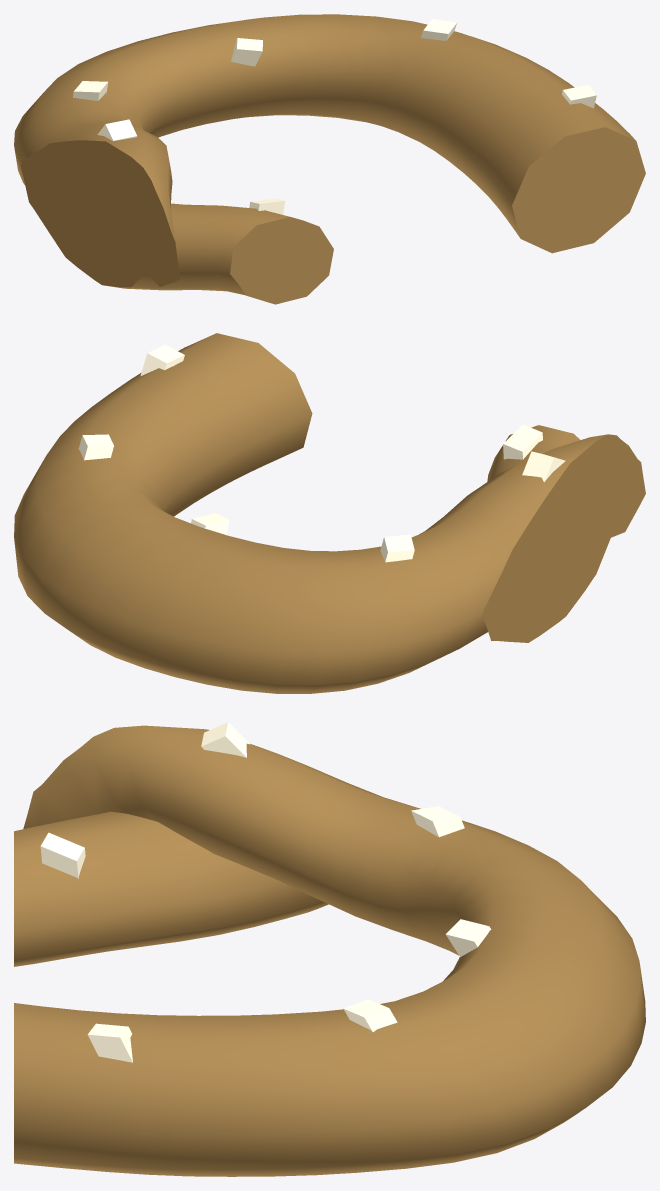
File: shot_superpretzel_b111.glb
The picture shows the model from 3 angles, top to bottom: view 1: azimuth 30°, elevation 25°; view 2: azimuth 150°, elevation 25°; view 3: azimuth 270°, elevation 25°; orthographic projection. The views are drawn at different scales.
Visible parts, largest first — view 1: sp_rope_b111, sp_salt.004_b111, sp_salt.002_b111, sp_salt.005_b111, sp_salt.003_b111, sp_salt.006_b111; view 2: sp_rope_b111, sp_salt.020_b111, sp_salt.003_b111, sp_salt.006_b111, sp_salt.005_b111, sp_salt.002_b111, sp_salt.004_b111; view 3: sp_rope_b111, sp_salt.020_b111, sp_salt.006_b111, sp_salt.002_b111, sp_salt.003_b111, sp_salt.005_b111, sp_salt.004_b111.
Part boxes in pixels (x1,y1,x2,y2): sp_rope_b111: (14, 14, 645, 304); sp_salt.004_b111: (231, 38, 262, 66); sp_salt.002_b111: (97, 119, 136, 141); sp_salt.005_b111: (421, 19, 457, 40); sp_salt.003_b111: (73, 81, 108, 100); sp_salt.006_b111: (562, 85, 596, 108); sp_rope_b111: (14, 333, 645, 693); sp_salt.020_b111: (503, 424, 542, 459); sp_salt.003_b111: (380, 534, 414, 562); sp_salt.006_b111: (140, 344, 184, 376); sp_salt.005_b111: (78, 434, 113, 460); sp_salt.002_b111: (522, 451, 565, 482); sp_salt.004_b111: (191, 513, 229, 535); sp_rope_b111: (14, 725, 645, 1176); sp_salt.020_b111: (40, 832, 85, 878); sp_salt.006_b111: (87, 1023, 132, 1062); sp_salt.002_b111: (201, 722, 249, 757); sp_salt.003_b111: (411, 806, 464, 837); sp_salt.005_b111: (343, 999, 397, 1031); sp_salt.004_b111: (445, 919, 491, 956).
Size of the model in its own units: 11.39 by 3.58 by 10.42.
